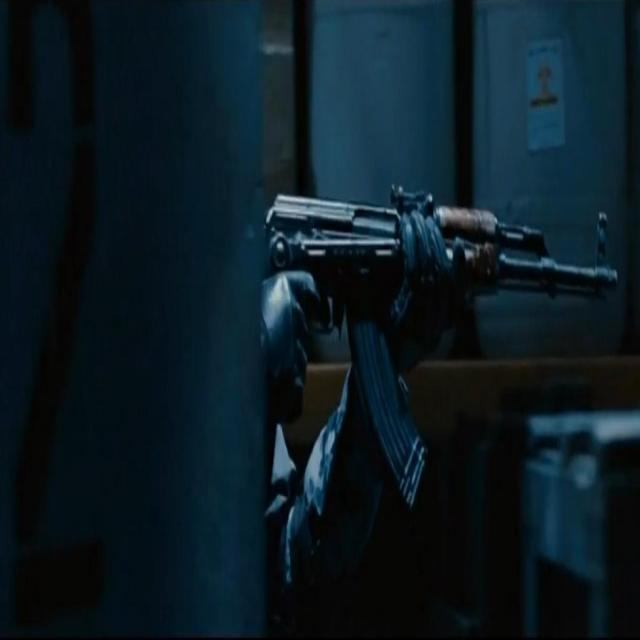gun-knife-thesis - v11 Yolov5 augmented: (257, 148, 624, 508)
